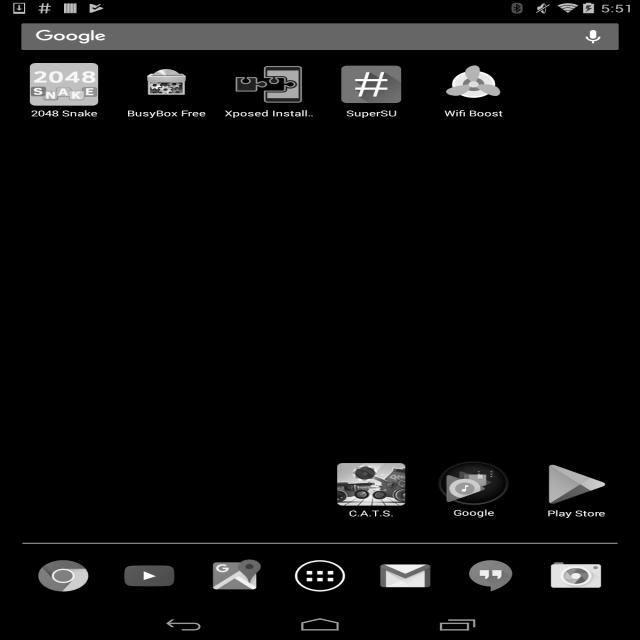ImageView: (23, 60, 104, 106), (335, 461, 412, 508), (234, 65, 311, 101), (540, 465, 606, 504), (373, 557, 442, 592), (342, 65, 405, 103), (34, 557, 96, 595), (440, 66, 504, 102), (443, 466, 507, 501), (208, 561, 267, 594), (550, 559, 609, 592), (137, 70, 195, 99), (464, 561, 516, 589), (122, 562, 177, 588)
TextView: (223, 110, 314, 121), (434, 107, 509, 120), (123, 107, 209, 118), (32, 107, 102, 119), (542, 508, 609, 518), (342, 107, 400, 118), (451, 507, 498, 518)
